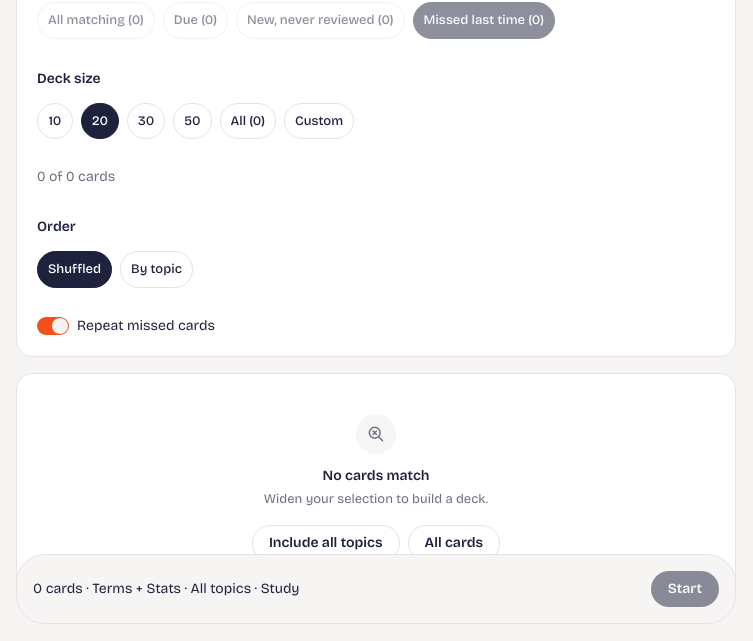
restores a zero match config and both EmptyState fixes recover it
(page scrolled)
Expected: the text "No cards match" is shown, [322,466,430,486]
Expected: the button "Start" is disabled, [651,571,719,607]
Click the button "Include all topics" at (326, 542), box [252,524,400,560]
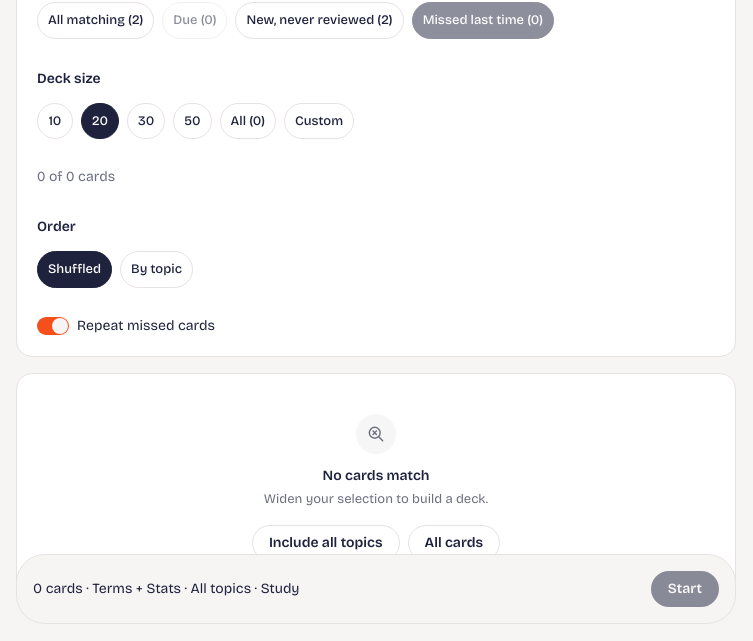
Expected: the text "No cards match" is shown, [322,466,430,486]
Click the button "All cards" at (454, 542), box [408,524,500,560]
(page scrolled)
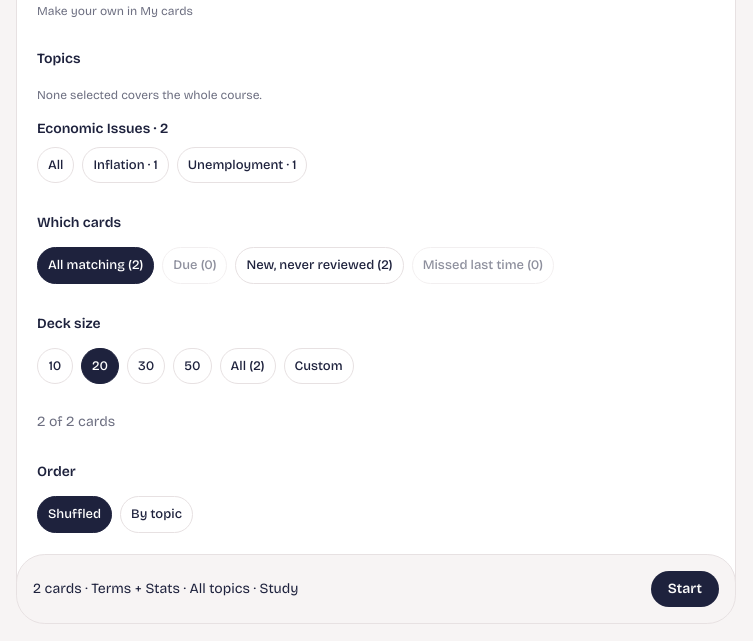
Expected: the text "No cards match" is gone
Expected: the button "Start" is enabled, [651,571,719,607]
